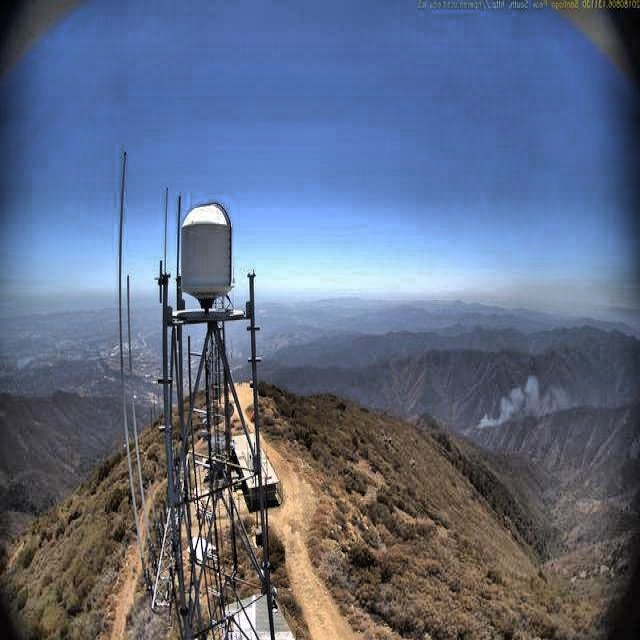smoke: (480, 365, 590, 431)
